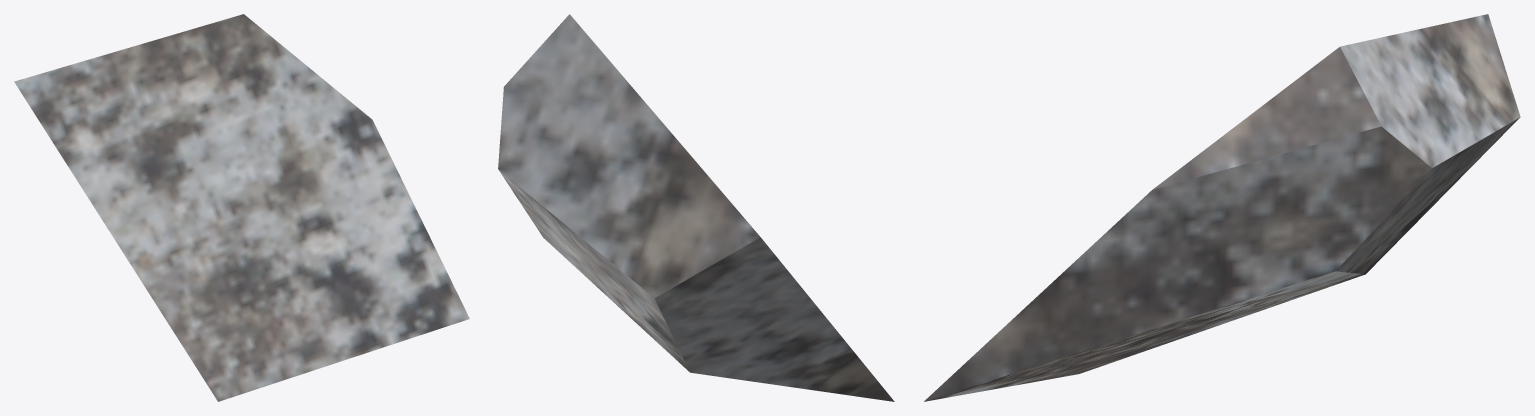
The model's file is Asteroid_Large_001_02_006_03_012.fbx.
The picture shows the model from 3 angles, left to right: view 1: azimuth 30°, elevation 25°; view 2: azimuth 150°, elevation 25°; view 3: azimuth 270°, elevation 25°; orthographic projection. The views are drawn at different scales.
Visible parts, largest first — view 1: Asteroid_Large_001_02_006_03_012; view 2: Asteroid_Large_001_02_006_03_012; view 3: Asteroid_Large_001_02_006_03_012.
Boxes of the visible parts, x1=… form: Asteroid_Large_001_02_006_03_012: x1=14, y1=14, x2=469, y2=401; Asteroid_Large_001_02_006_03_012: x1=498, y1=14, x2=894, y2=401; Asteroid_Large_001_02_006_03_012: x1=924, y1=14, x2=1520, y2=401.
Size of the model in its own units: 2.79 by 3.05 by 4.04.
